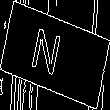N_S: (37, 25, 73, 85)
